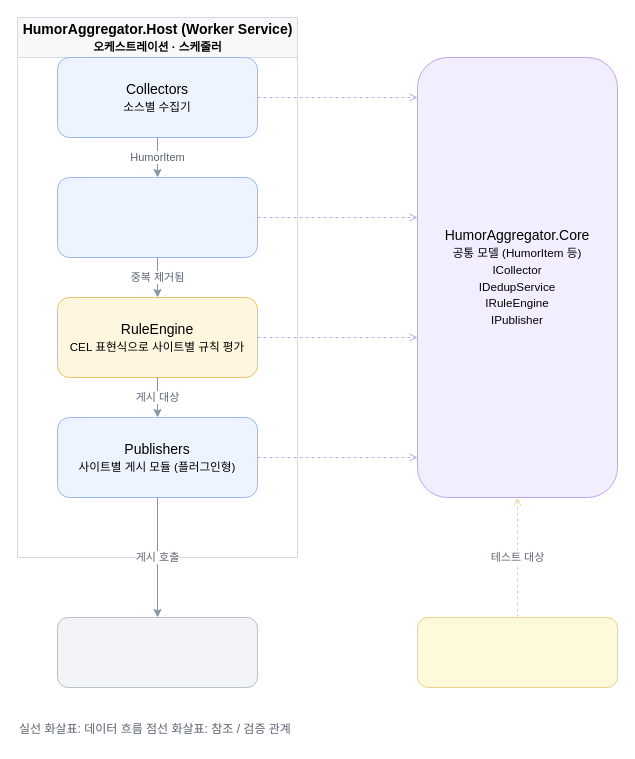
Image size: 635x759. Some labels were removed from this diagram. The shapes that lost their labels are listed below. From the top down, each one's centre as x and y in pixels, then its label:
At point 157,217: "Dedup 텍스트/이미지 중복 제거".
At point 157,652: "게시 대상 사이트 사이트별 API 연동".
At point 517,652: "HumorAggregator.Tests xUnit 단위 테스트".
